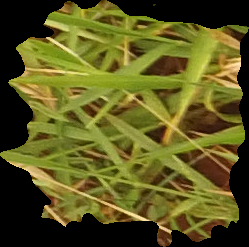grass: (1, 1, 248, 246)
